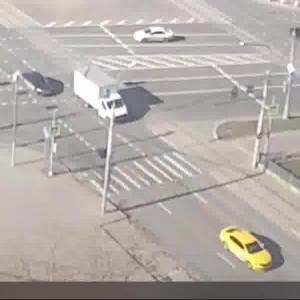car: (68, 70, 135, 123), (223, 226, 283, 273), (18, 69, 58, 103), (134, 27, 179, 45)
